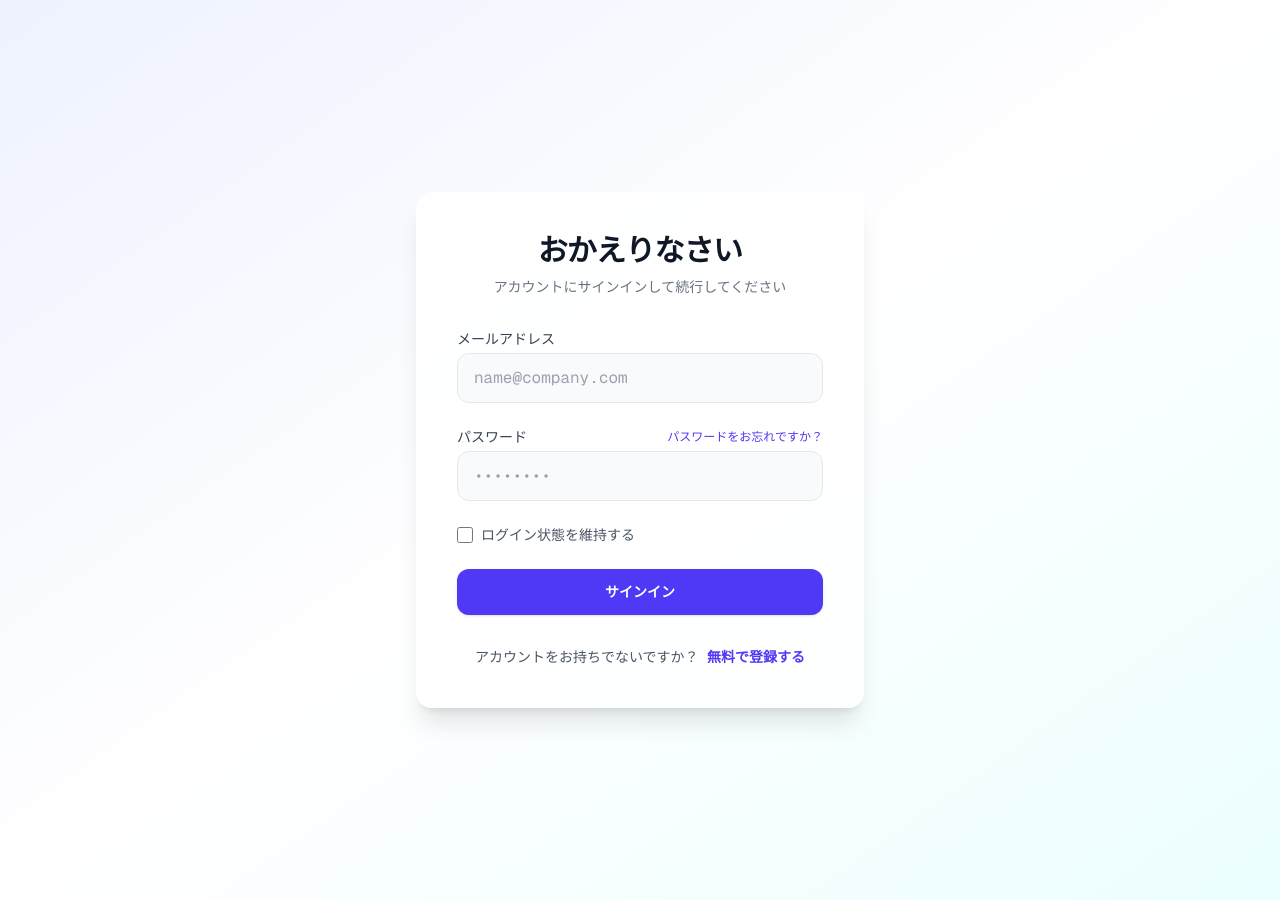
it: Login Page › shows validation errors for empty fields
Click the button "サインイン": (640, 592) [457,569,823,615]
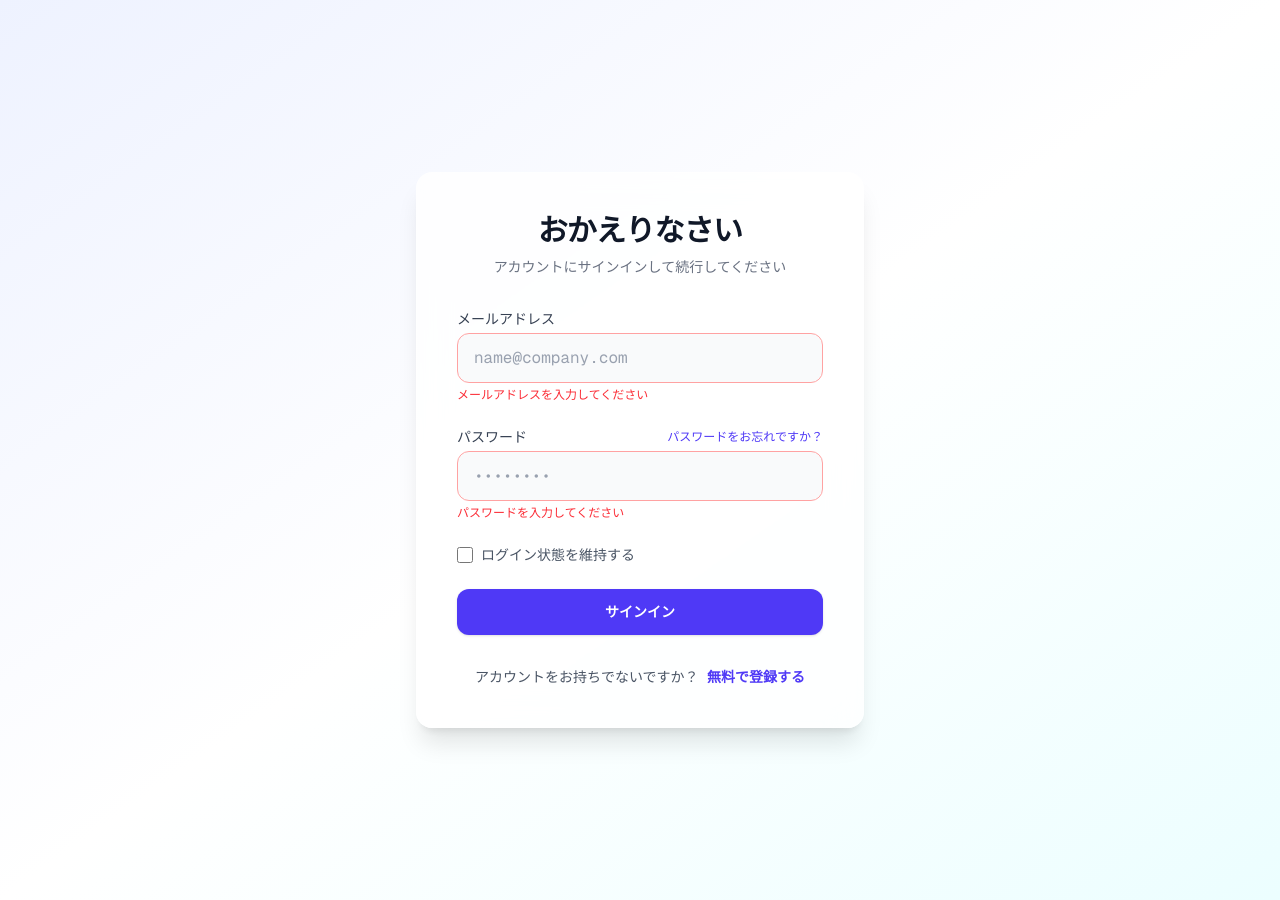
Expected: the text "メールアドレスを入力してください" is shown, [457,387,648,403]
Expected: the text "パスワードを入力してください" is shown, [457,505,624,521]
